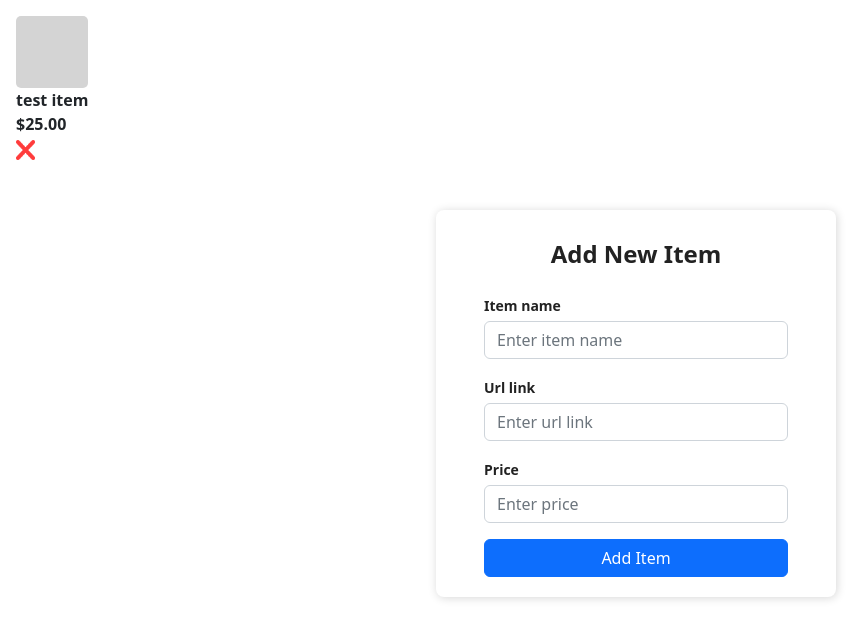
Test: <Items/> › adds item successfully
The width and height of the screenshot is (857, 618).
Type "test item2" into the field with placeholder "Enter item name" at (636,340), box [484,321,788,359]
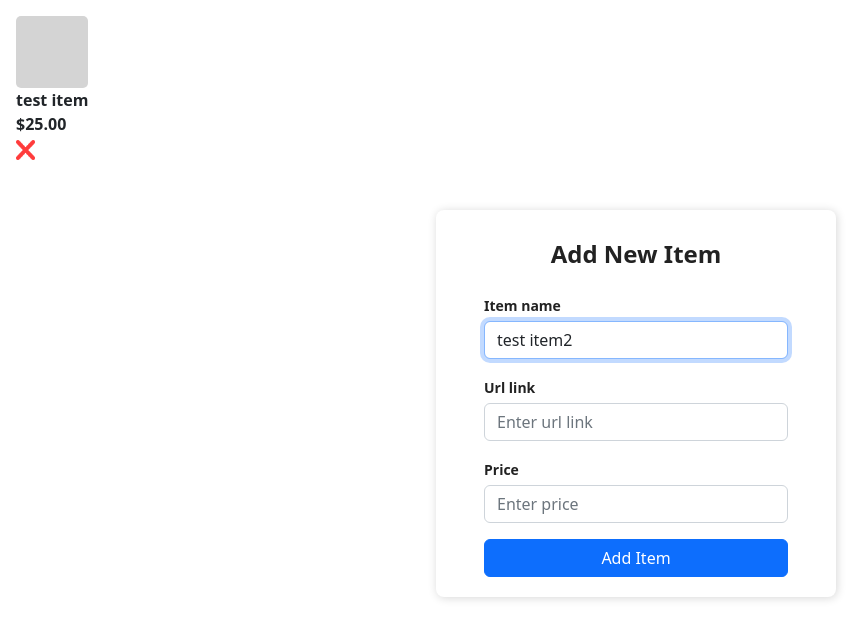
Type "random url link" into the field with placeholder "Enter url link" at (636,422), box [484,403,788,441]
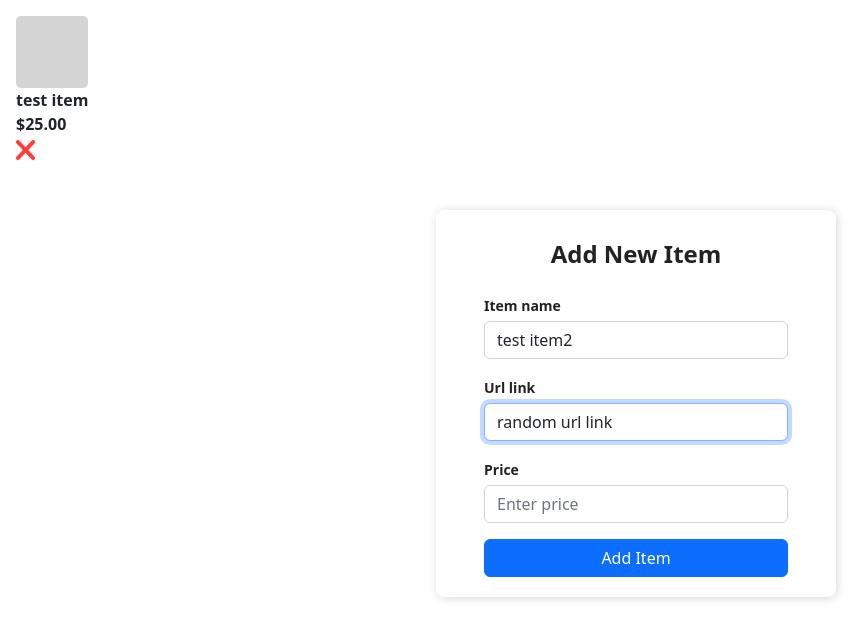
Type "24" into the number field with placeholder "Enter price" at (636,504), box [484,485,788,523]
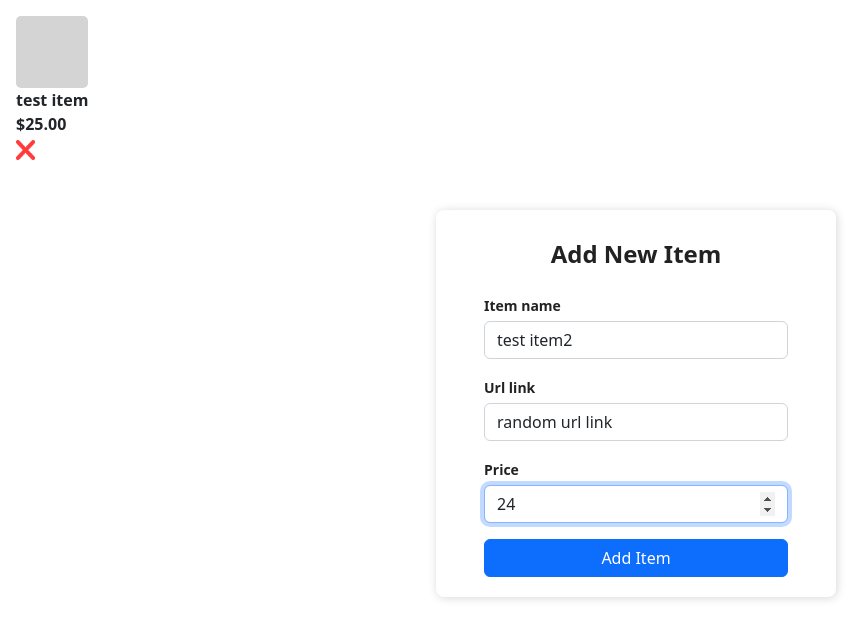
Click the button "Add Item" at (636,558), box [484,539,788,577]
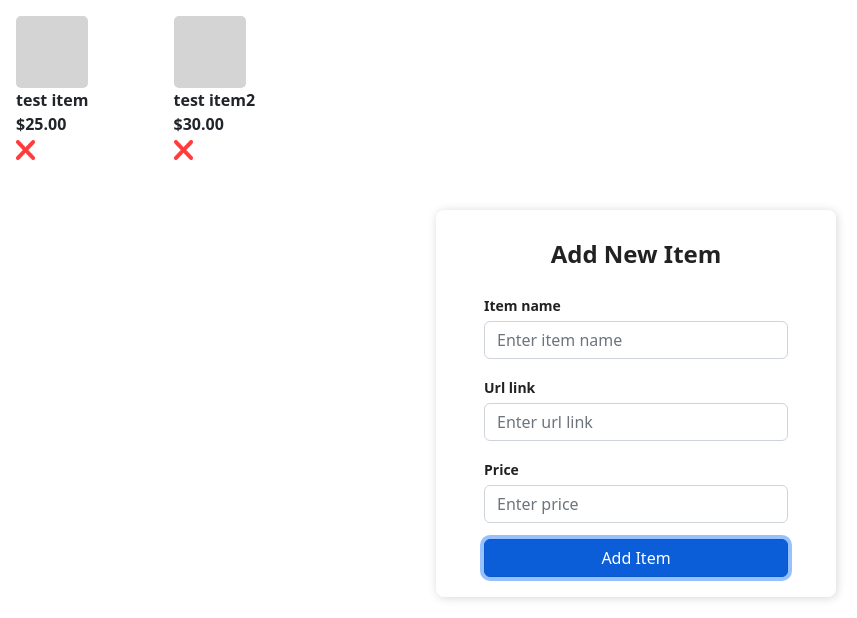
Expected: the text "test item" is shown 2 times, [16,89,88,111]; [174,89,255,111]
